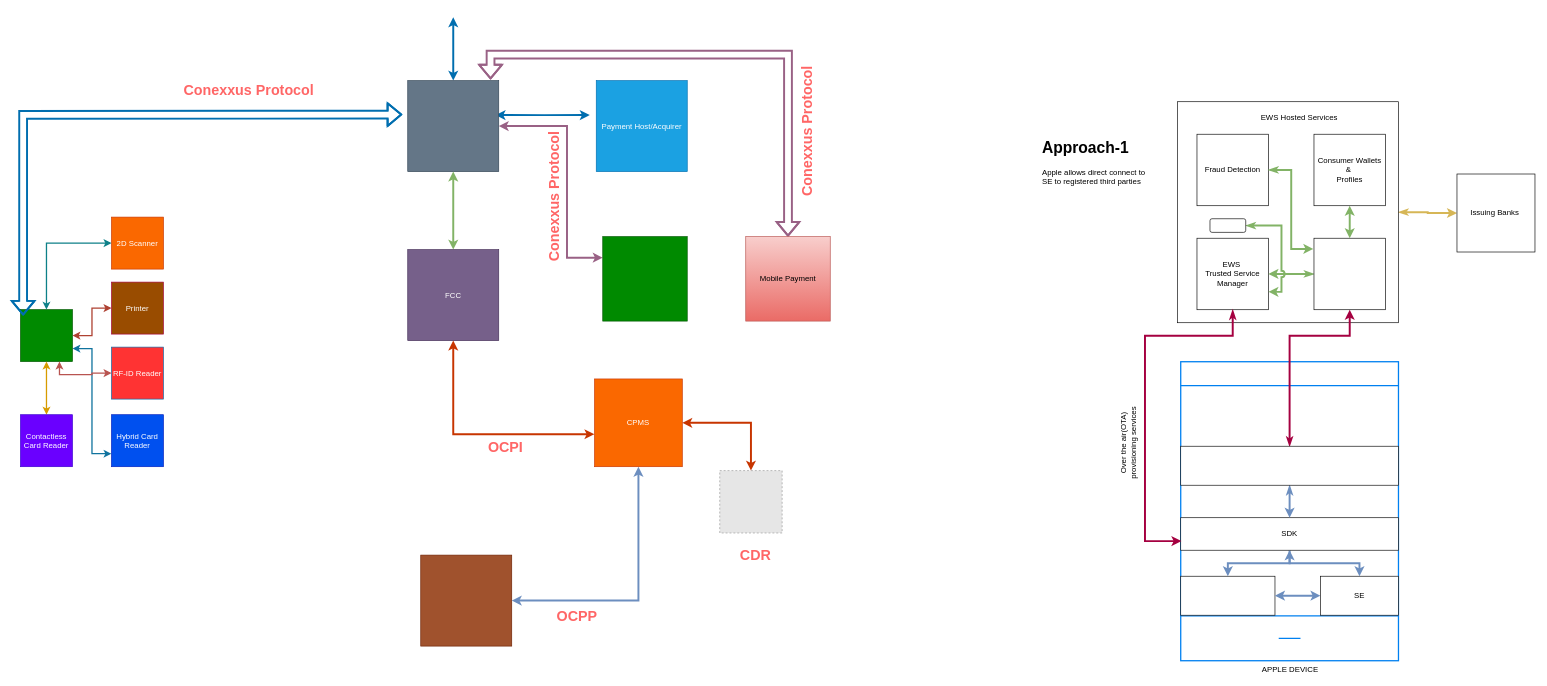
Image size: 1547x686. Some labels were removed from this diagram. Grey dashed boxes stand in for pictures. The centre of each missing label's shape, as x and y in pixels:
"ECO/G" goes at pixel 466 600.
"External Loyalty Provider" goes at pixel 644 278.
"HSM" goes at pixel 1227 225.
"IOS" goes at pixel 1227 595.
"Mobile Application" goes at pixel 1289 465.
"POS/EPS" goes at pixel 453 126.
"SPM2" goes at pixel 46 335.
"Wallet Management" goes at pixel 1349 274.
